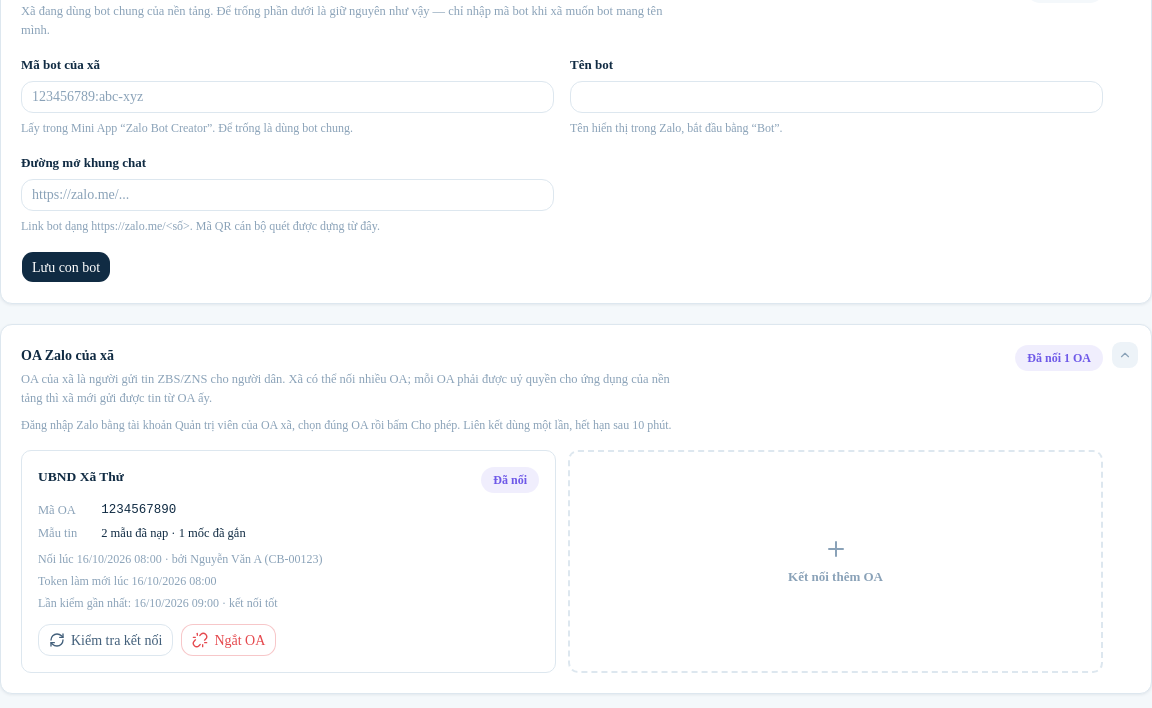
Scenario: OA Zalo của xã — a list, one card per OA › tiles side by side, at most 4 a row; the '+' tile closes the grid and folding keeps only the heading
The width and height of the screenshot is (1152, 708).
(page scrolled)
Expected: the list item "Kết nối thêm OA" is shown, top-left (568, 450), bottom-right (1103, 673)
Click the button named "Thu gọn mục" next to "Đã nối 1 OA": (1125, 355) top-left (1111, 341), bottom-right (1139, 369)
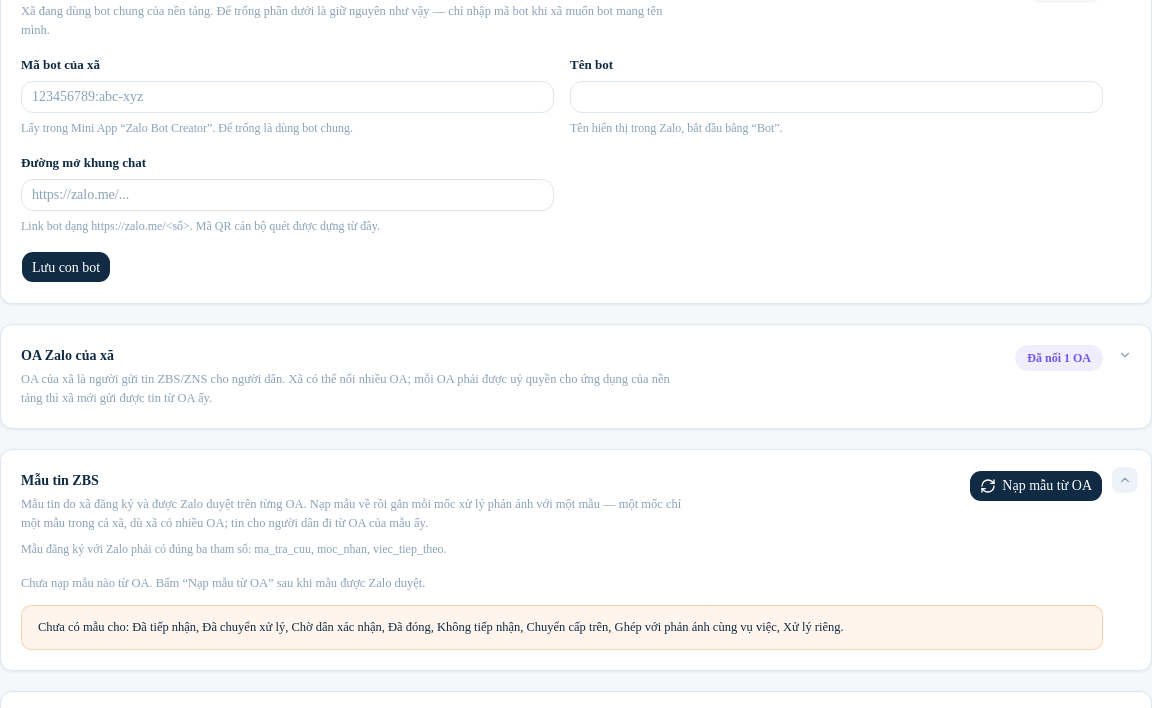
Expected: the element that starts with "OA Zalo của xã" has attribute data-collapsed, top-left (0, 324), bottom-right (1151, 429)
Expected: the button named "Mở rộng mục" is collapsed
Click the button named "Mở rộng mục": (1125, 355) top-left (1111, 341), bottom-right (1139, 369)
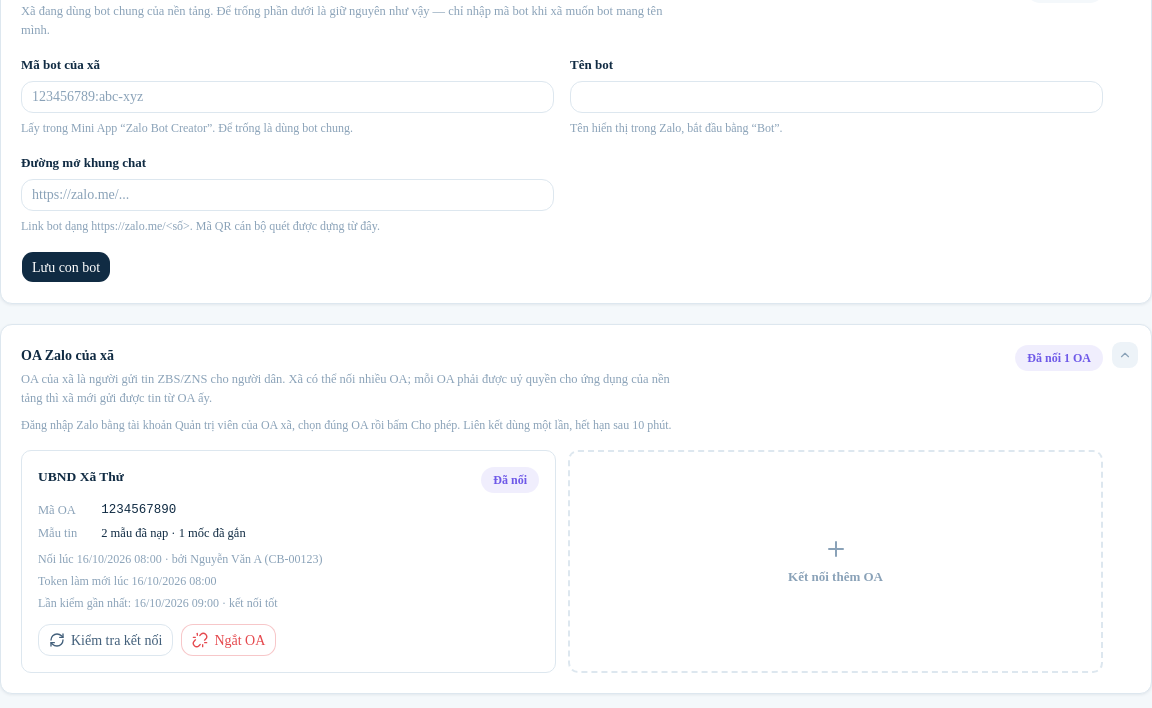
Expected: the element that starts with "OA Zalo của xã" does not have attribute data-collapsed, top-left (0, 324), bottom-right (1151, 694)
